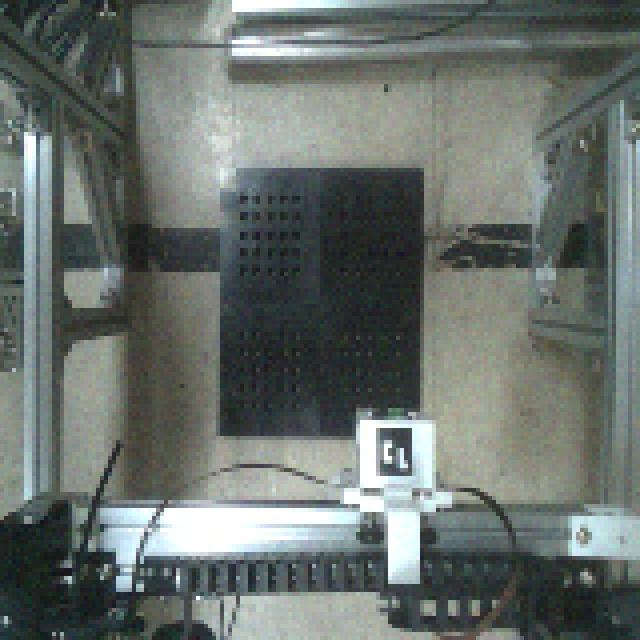pallet: (214, 166, 426, 440)
